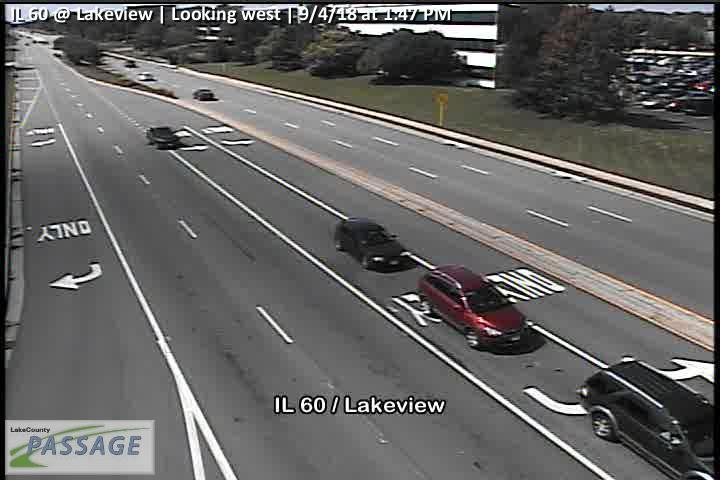SUV: (575, 359, 720, 480), (417, 263, 527, 351)
Sedan: (333, 216, 411, 274), (146, 126, 180, 150), (192, 89, 214, 101)
